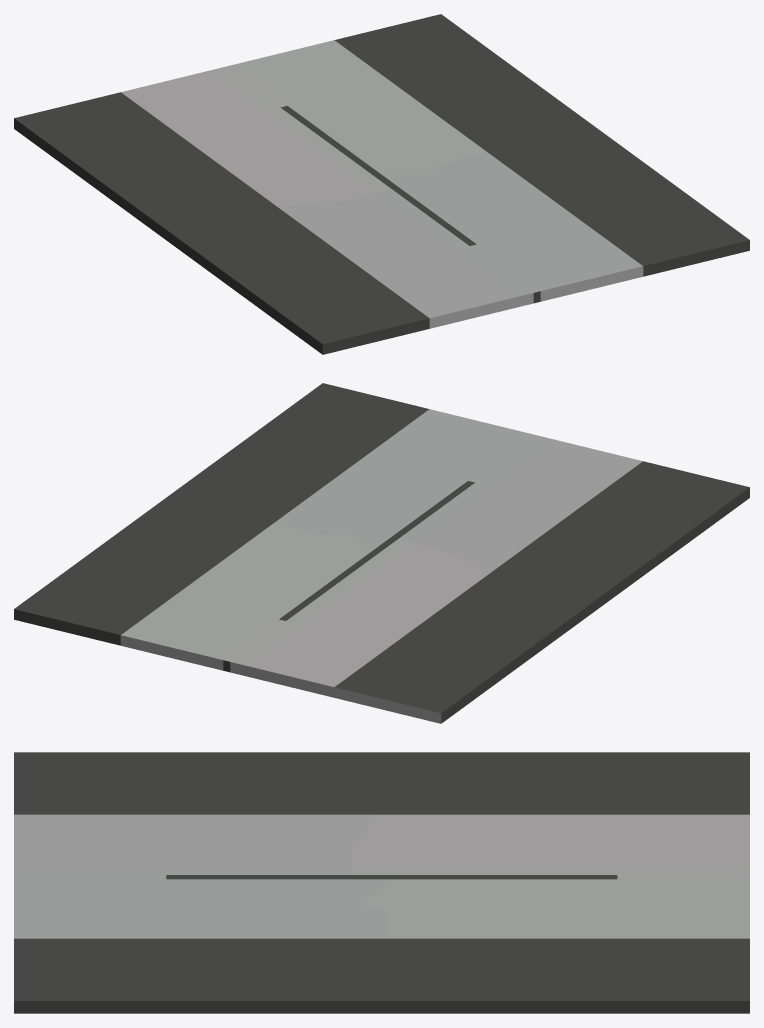
The model's file is road1.fbx.
3 views of the same model, one above another, from view 1: azimuth 30°, elevation 25°; view 2: azimuth 150°, elevation 25°; view 3: azimuth 270°, elevation 25° (orthographic). The views are drawn at different scales.
Parts seen in each view (by area): view 1: Road_1_6; view 2: Road_1_6; view 3: Road_1_6.
Part boxes in pixels (x1,y1,x2,y2): Road_1_6: (14,14,749,354); Road_1_6: (14,383,749,723); Road_1_6: (14,752,749,1013).
Size of the model in its own units: 800 by 18.98 by 1002.
1 material, 1 textured.
